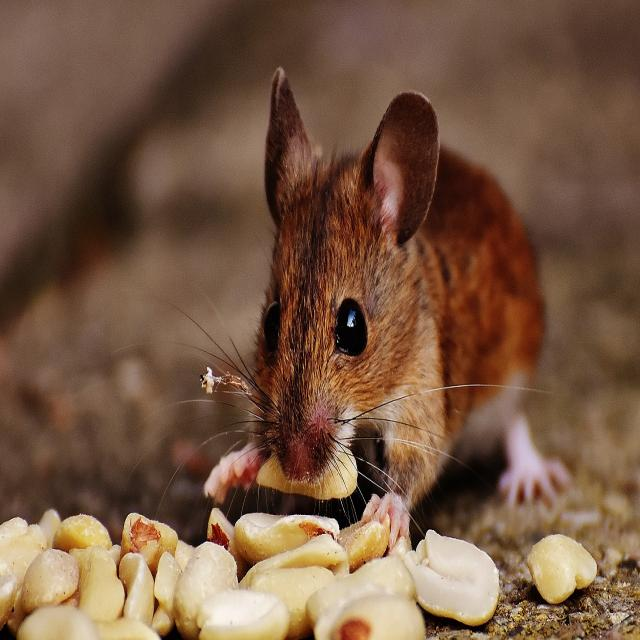rat: (210, 59, 576, 548)
